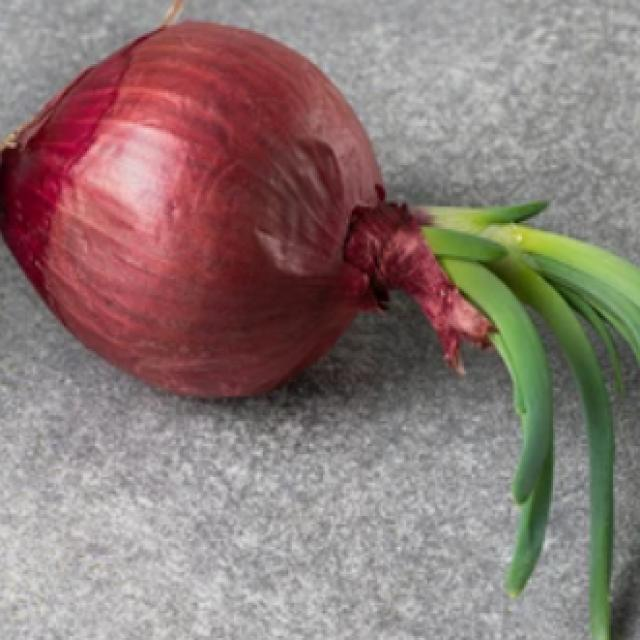sprouting: (375, 185, 625, 522)
